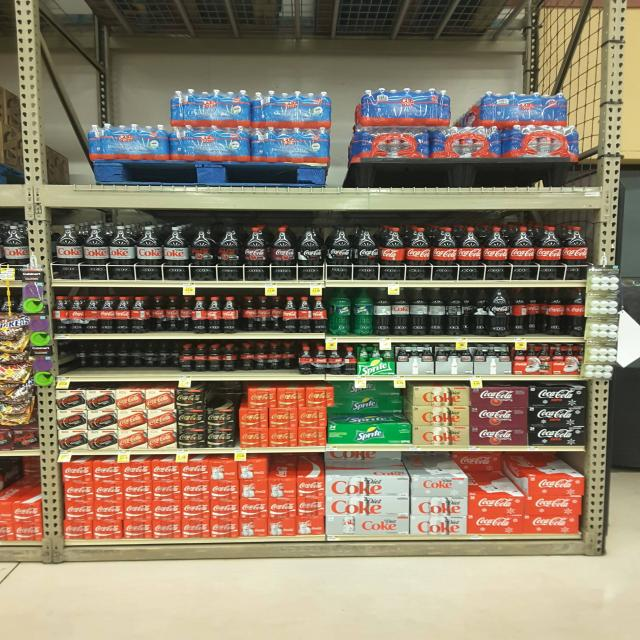unorganised: (180, 340, 298, 373), (482, 91, 570, 125), (73, 342, 180, 369), (334, 382, 404, 420), (407, 286, 445, 339), (247, 386, 336, 407), (147, 296, 191, 332), (514, 287, 544, 338), (240, 296, 283, 331), (460, 449, 502, 473), (459, 288, 479, 335), (324, 454, 401, 466), (374, 291, 390, 337)
